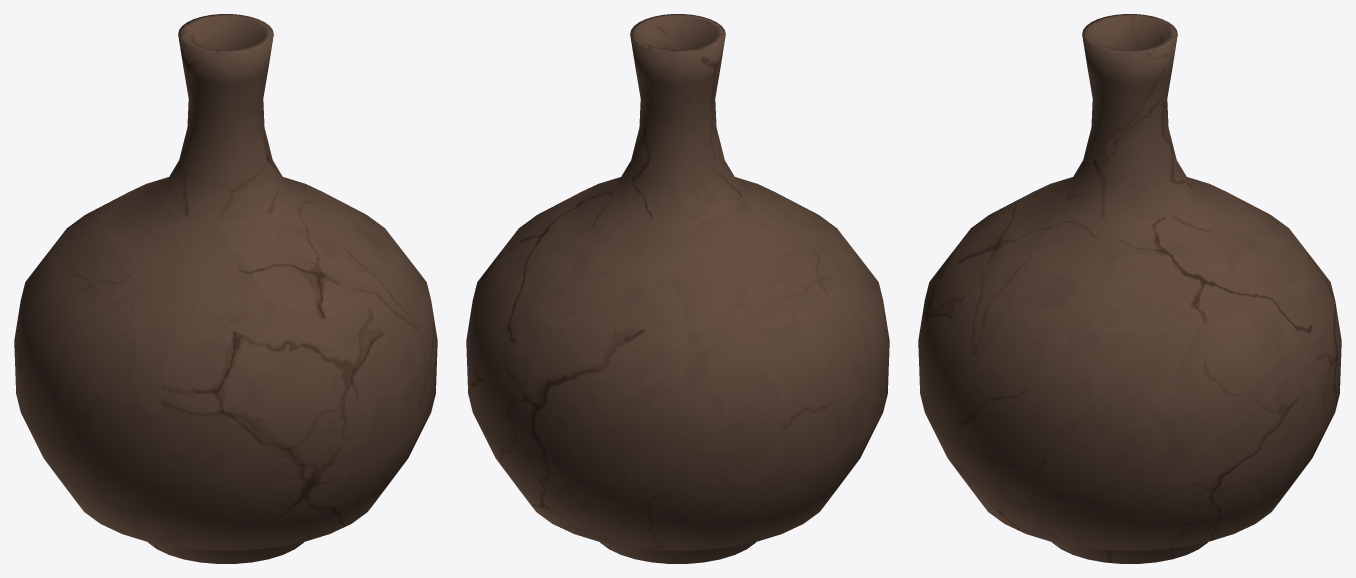
Rendered from Jarrón II.fbx.
3 renders of one model, left to right at view 1: azimuth 30°, elevation 25°; view 2: azimuth 150°, elevation 25°; view 3: azimuth 270°, elevation 25°, orthographic.
Visible parts, largest first — view 1: Jarrón II; view 2: Jarrón II; view 3: Jarrón II.
Part boxes in pixels (x1,y1,x2,y2): Jarrón II: (14,14,437,563); Jarrón II: (466,14,889,563); Jarrón II: (918,14,1341,563).
Size of the model in its own units: 193 by 250 by 194.
Materials: 1 (1 with a texture image).
